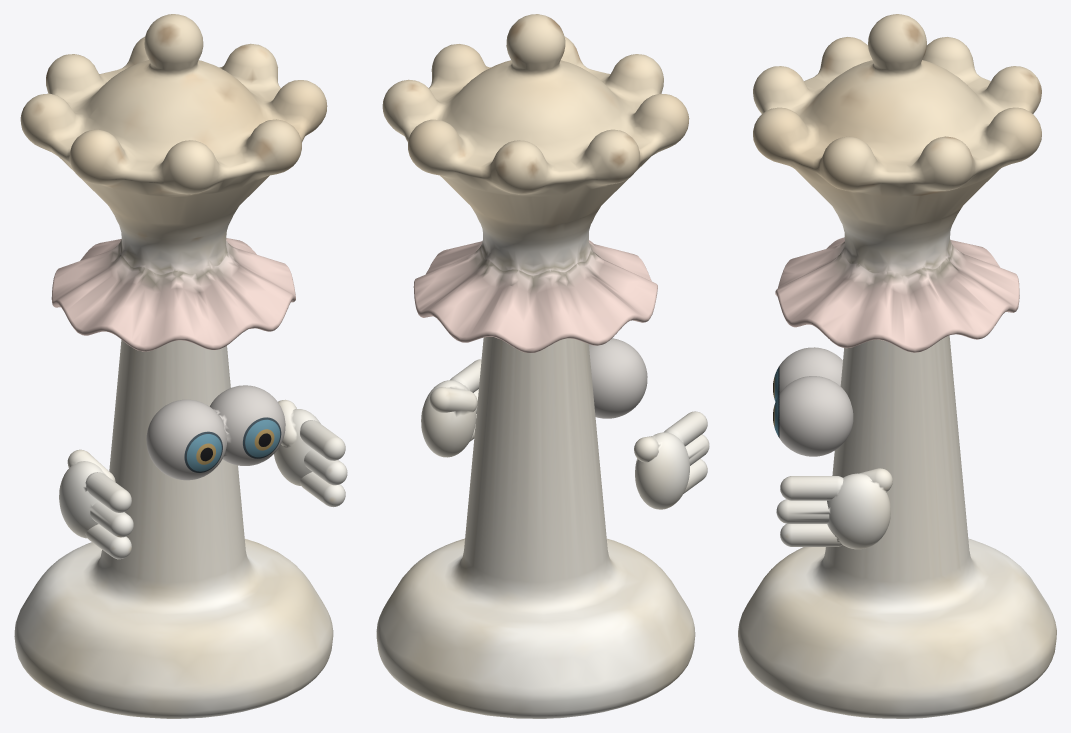
Rendered from queen-light.glb.
3 renders of one model, left to right at view 1: azimuth 30°, elevation 25°; view 2: azimuth 150°, elevation 25°; view 3: azimuth 270°, elevation 25°, orthographic.
Visible parts, largest first — view 1: body, hand, eye; view 2: body, hand, eye; view 3: body, hand, eye.
Boxes of the visible parts, <box> form: body: <box>14,14,333,718</box>; hand: <box>59,399,347,559</box>; eye: <box>146,385,285,480</box>; body: <box>376,14,695,718</box>; hand: <box>421,359,709,509</box>; eye: <box>589,338,647,418</box>; body: <box>738,14,1056,718</box>; hand: <box>776,468,892,549</box>; eye: <box>773,347,853,456</box>.
Size of the model in its own units: 2.27 by 5.06 by 2.27.
